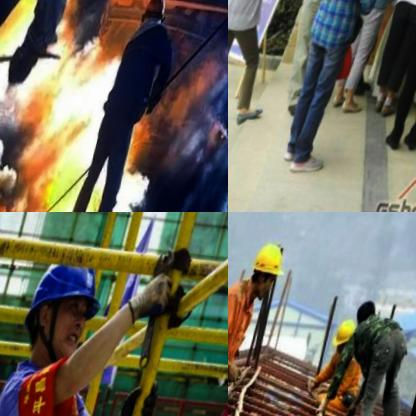helmet: (7, 245, 122, 380), (240, 236, 292, 314), (331, 320, 364, 369), (139, 0, 173, 40)
